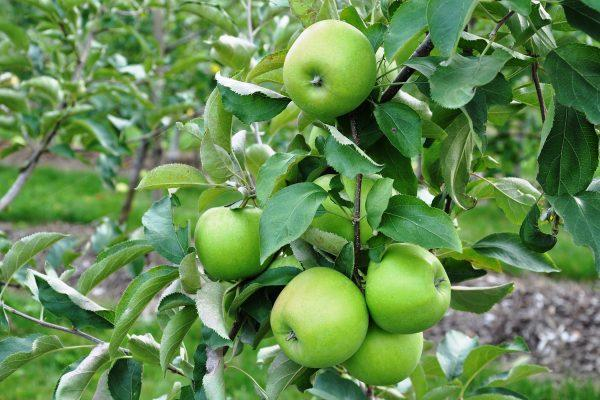apple: (267, 266, 368, 369), (282, 18, 375, 122), (362, 243, 450, 333), (193, 201, 265, 281), (343, 323, 423, 381)
